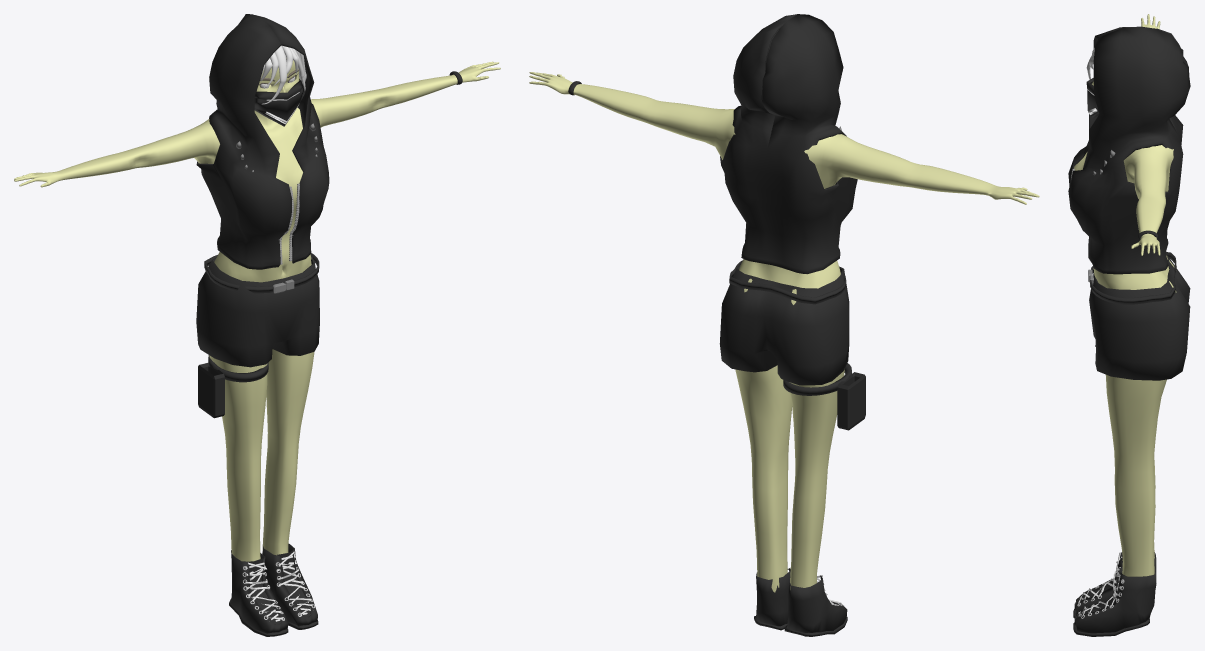
File: chara_anime.fbx
3 renders of one model, left to right at view 1: azimuth 30°, elevation 25°; view 2: azimuth 150°, elevation 25°; view 3: azimuth 270°, elevation 25°, orthographic. The views are drawn at different scales.
Visible parts, largest first — view 1: 平面, 立方体.005, 立方体.007, 立方体.006, 立方体.008, 立方体.016, 立方体.011, 円.001; view 2: 平面, 立方体.005, 立方体.007, 立方体.006, 立方体.008, 立方体.016, 円.001; view 3: 立方体.005, 平面, 立方体.007, 立方体.008, 円.001, 立方体.006, 立方体.019, 立方体.011.
Part boxes in pixels (box(x1,y1,x2,y2)): 平面: box(14, 58, 500, 561); 立方体.005: box(196, 14, 329, 269); 立方体.007: box(196, 254, 319, 367); 立方体.006: box(231, 550, 288, 633); 立方体.008: box(262, 543, 317, 626); 立方体.016: box(198, 362, 224, 418); 立方体.011: box(254, 80, 305, 126); 円.001: box(204, 253, 319, 293); 平面: box(529, 72, 1039, 592); 立方体.005: box(720, 14, 857, 274); 立方体.007: box(719, 260, 849, 385); 立方体.006: box(787, 575, 847, 632); 立方体.008: box(756, 568, 790, 626); 立方体.016: box(837, 372, 865, 430); 円.001: box(729, 260, 846, 304); 立方体.005: box(1068, 26, 1190, 274); 平面: box(1073, 14, 1176, 576); 立方体.007: box(1089, 254, 1190, 380); 立方体.008: box(1074, 566, 1156, 633); 円.001: box(1090, 252, 1176, 304); 立方体.006: box(1074, 552, 1156, 614); 立方体.019: box(1073, 619, 1149, 636); 立方体.011: box(1086, 78, 1099, 118).
Size of the model in its own units: 606 by 703 by 131.
